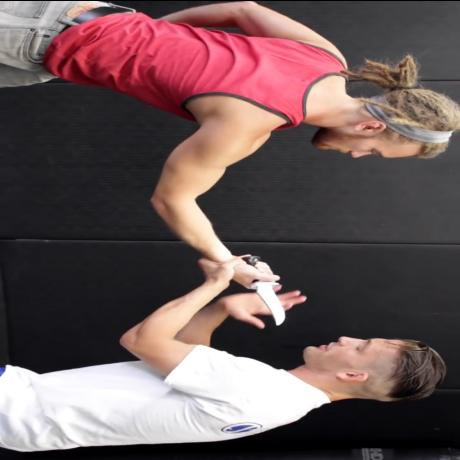1: (0, 0, 457, 287), (9, 254, 450, 454)
weapon: (240, 255, 287, 325)
